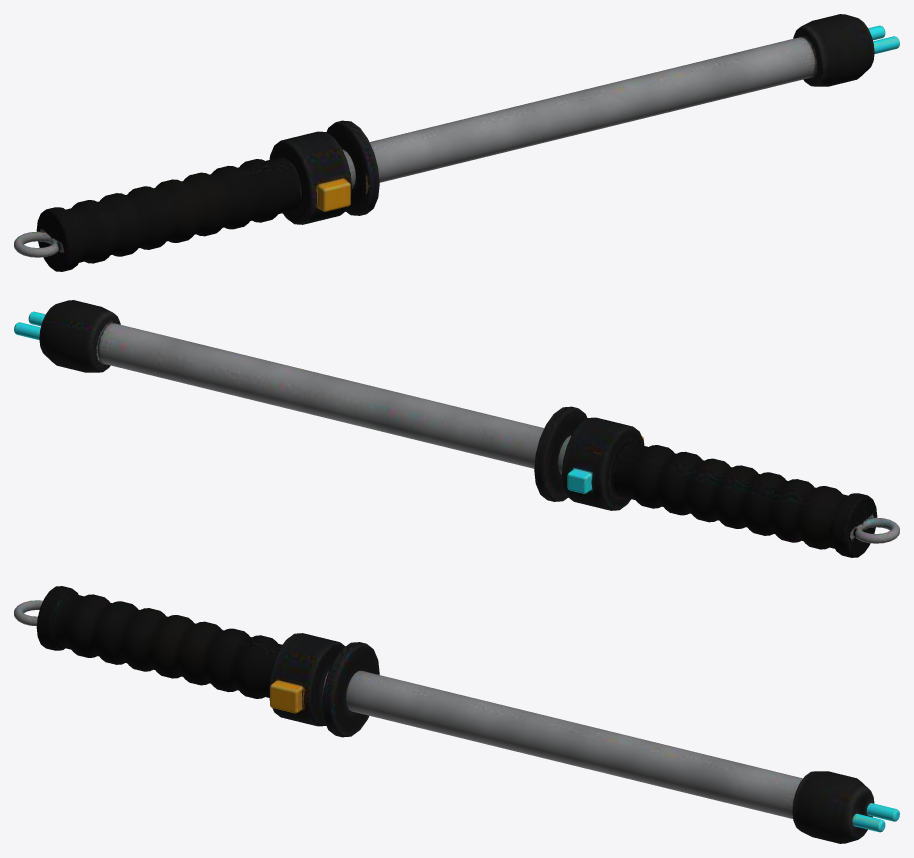
File: stun_baton.glb
3 views of the same model, one above another, from view 1: azimuth 30°, elevation 25°; view 2: azimuth 150°, elevation 25°; view 3: azimuth 330°, elevation 25° (orthographic).
Parts seen in each view (by area): view 1: stun_baton; view 2: stun_baton; view 3: stun_baton.
Part boxes in pixels (x1,y1,x2,y2): stun_baton: [14, 14, 899, 271]; stun_baton: [14, 300, 899, 557]; stun_baton: [14, 586, 899, 843].
Size of the model in its own units: 0.625 by 0.0591 by 0.068.
1 material, 1 textured.
